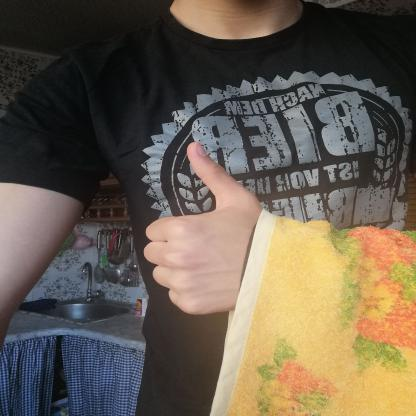ALIF: (120, 130, 291, 329)
